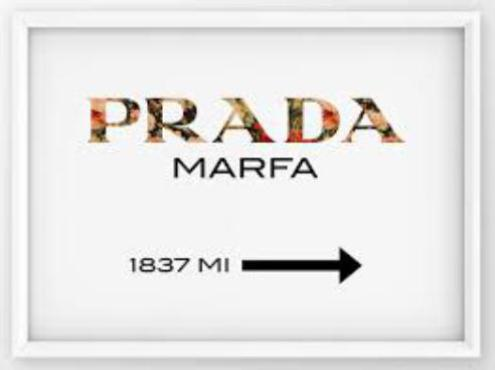PRADA: (85, 91, 407, 154)
